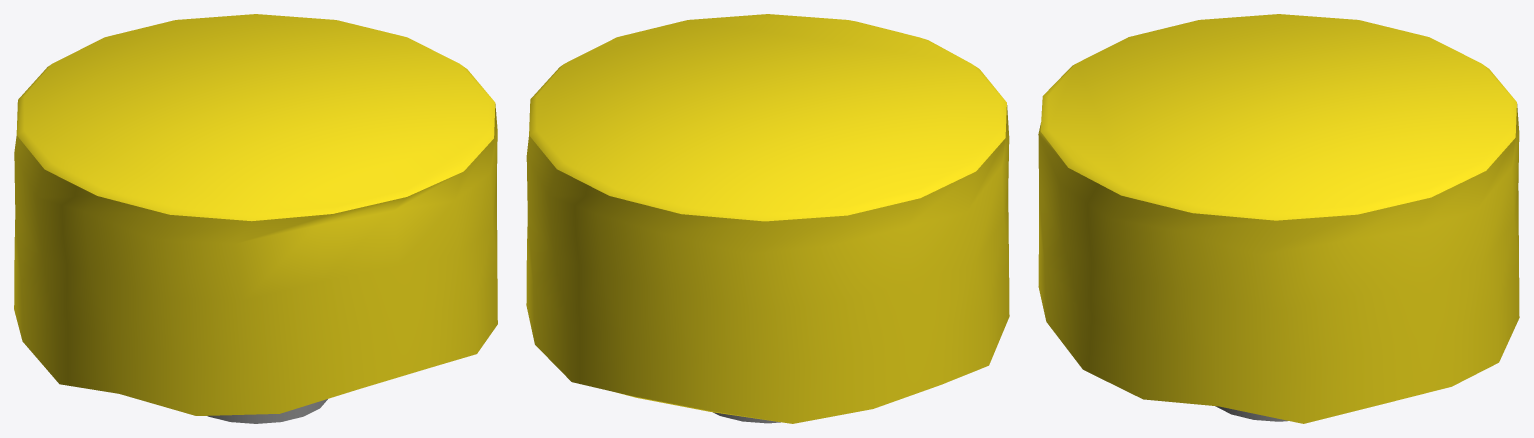
File: mesacomtoalha.FBX
3 views of the same model, side by side, from view 1: azimuth 30°, elevation 25°; view 2: azimuth 150°, elevation 25°; view 3: azimuth 270°, elevation 25° (orthographic).
Visible parts, largest first — view 1: Cylinder001; view 2: Cylinder001; view 3: Cylinder001.
Boxes of the visible parts, <box> form: Cylinder001: <box>14,14,497,423</box>; Cylinder001: <box>526,14,1009,423</box>; Cylinder001: <box>1038,14,1519,423</box>.
Bounding box in the file's own units: 80.69 × 51.27 × 80.47.
